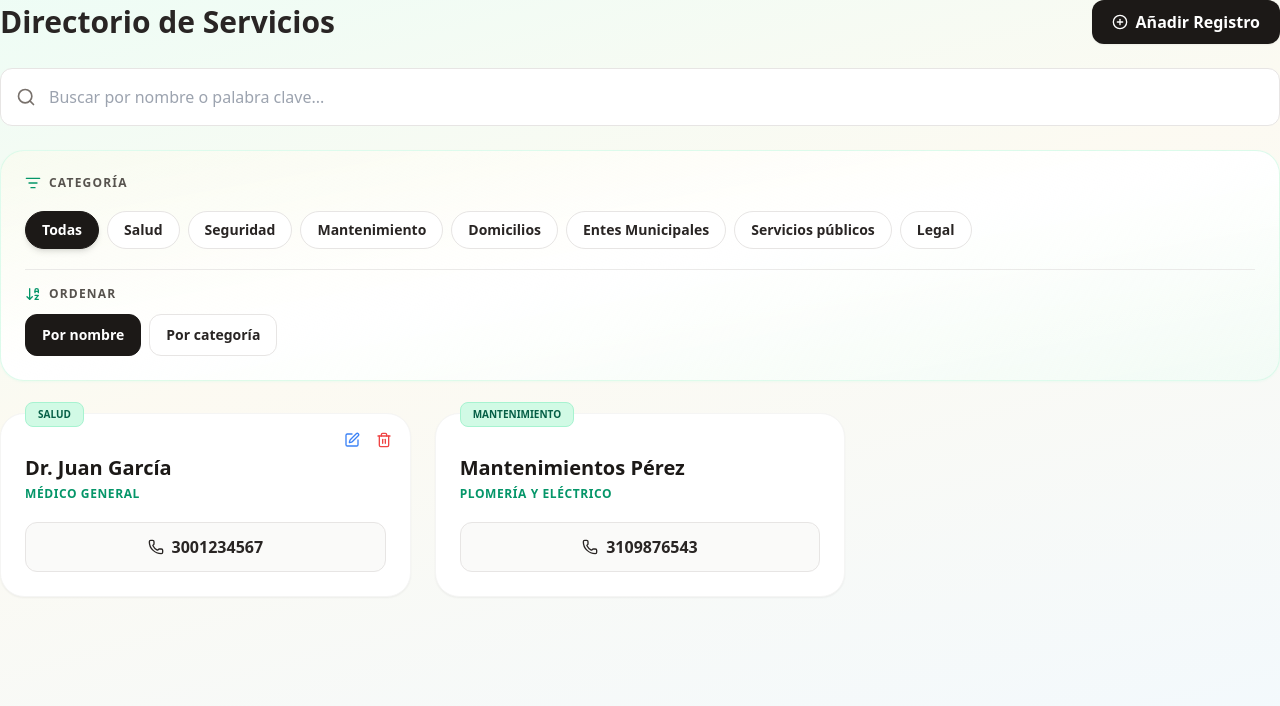
Test: DirectoriesView — control de acceso por rol › abre el formulario al hacer click en "Añadir Registro"
The image size is (1280, 706).
Click the button "Añadir Registro" at (1186, 22), box top-left (1092, 0), bottom-right (1279, 44)
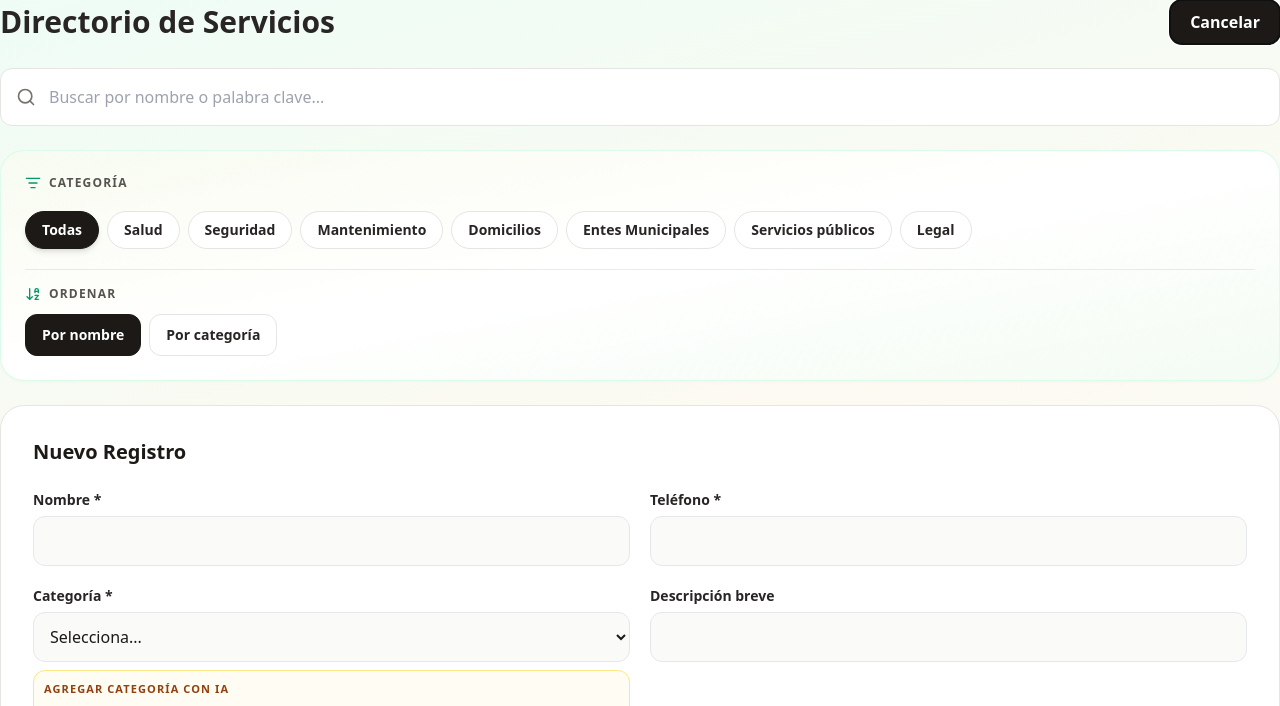
Check: the heading "Nuevo Registro" is shown, box top-left (33, 438), bottom-right (186, 465)
Check: the text "Nombre *" is shown, box top-left (33, 490), bottom-right (101, 509)
